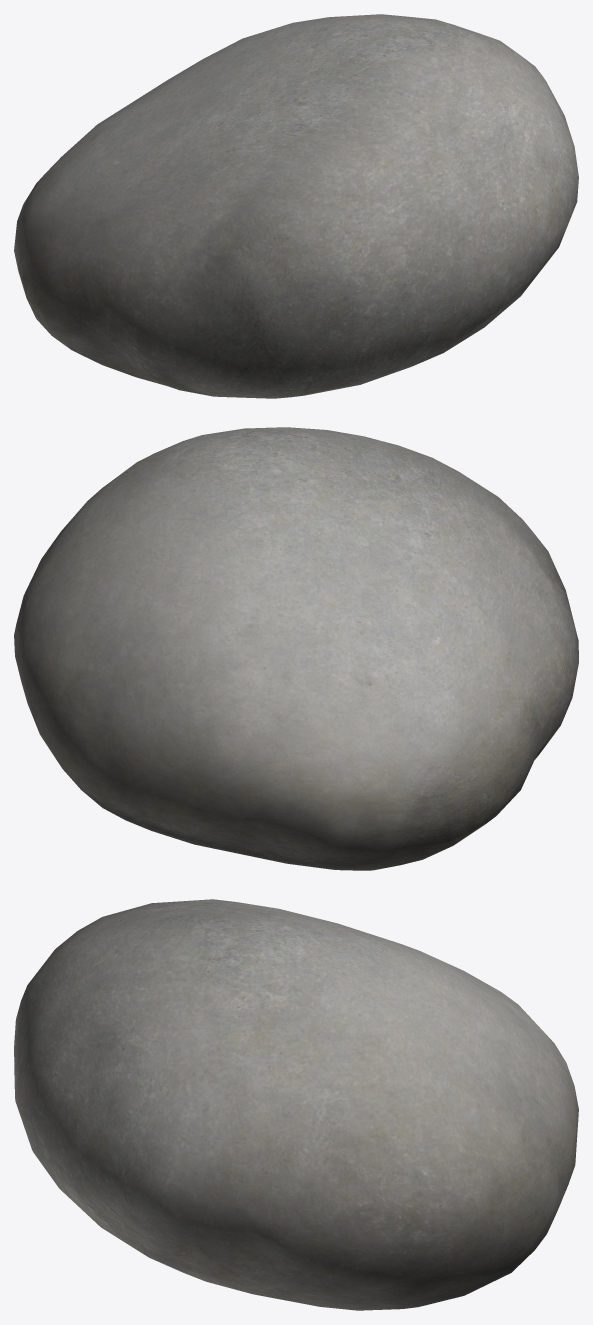
3 views of the same model, one above another, from view 1: azimuth 30°, elevation 25°; view 2: azimuth 150°, elevation 25°; view 3: azimuth 270°, elevation 25° (orthographic). The views are drawn at different scales.
Parts seen in each view (by area): view 1: Mesh1; view 2: Mesh1; view 3: Mesh1.
Part boxes in pixels (bbox=[...]): Mesh1: bbox=[14, 14, 578, 398]; Mesh1: bbox=[14, 427, 578, 870]; Mesh1: bbox=[14, 899, 578, 1310].
Bounding box in the file's own units: 200 × 131 × 186.
Materials: 1 (1 with a texture image).
